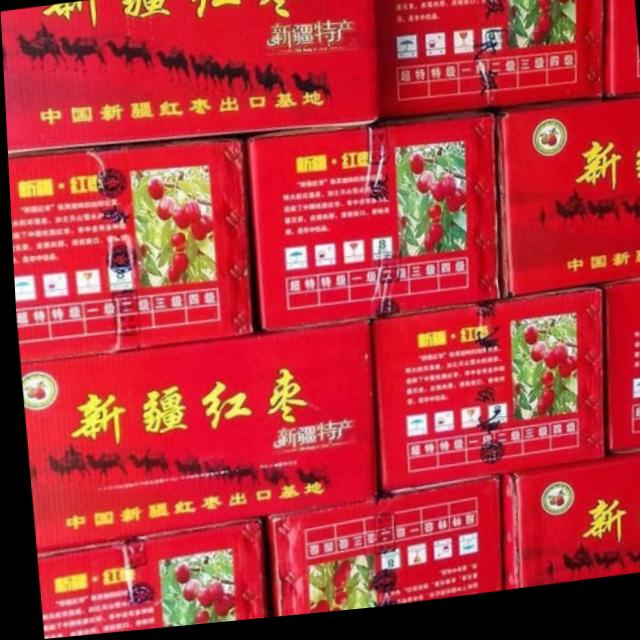box: (16, 327, 370, 554), (1, 0, 376, 155), (6, 139, 250, 366), (245, 117, 495, 337), (367, 298, 600, 507), (259, 484, 501, 622), (491, 108, 640, 309), (372, 0, 605, 125), (31, 523, 263, 639), (495, 463, 640, 598), (597, 292, 640, 470), (604, 0, 639, 111)
